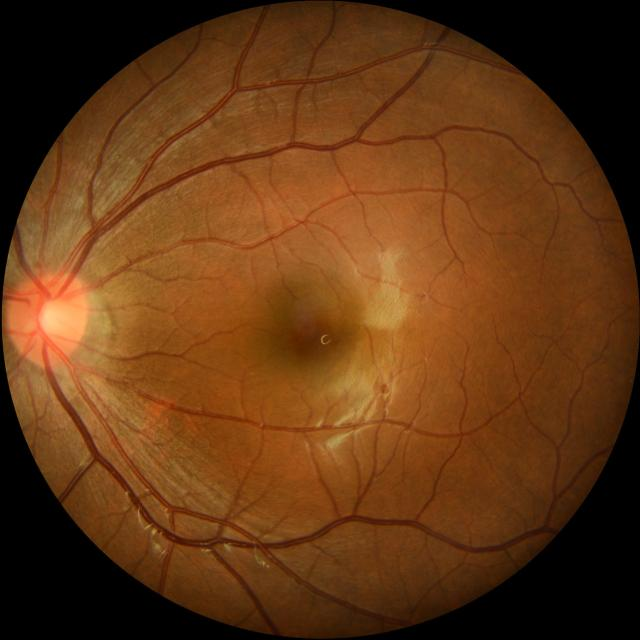OC: (35, 298, 73, 336)
OD: (8, 271, 87, 361)
